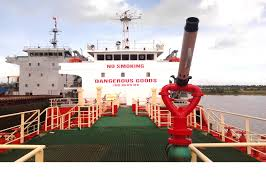tau_dansu: (63, 34, 266, 162)
